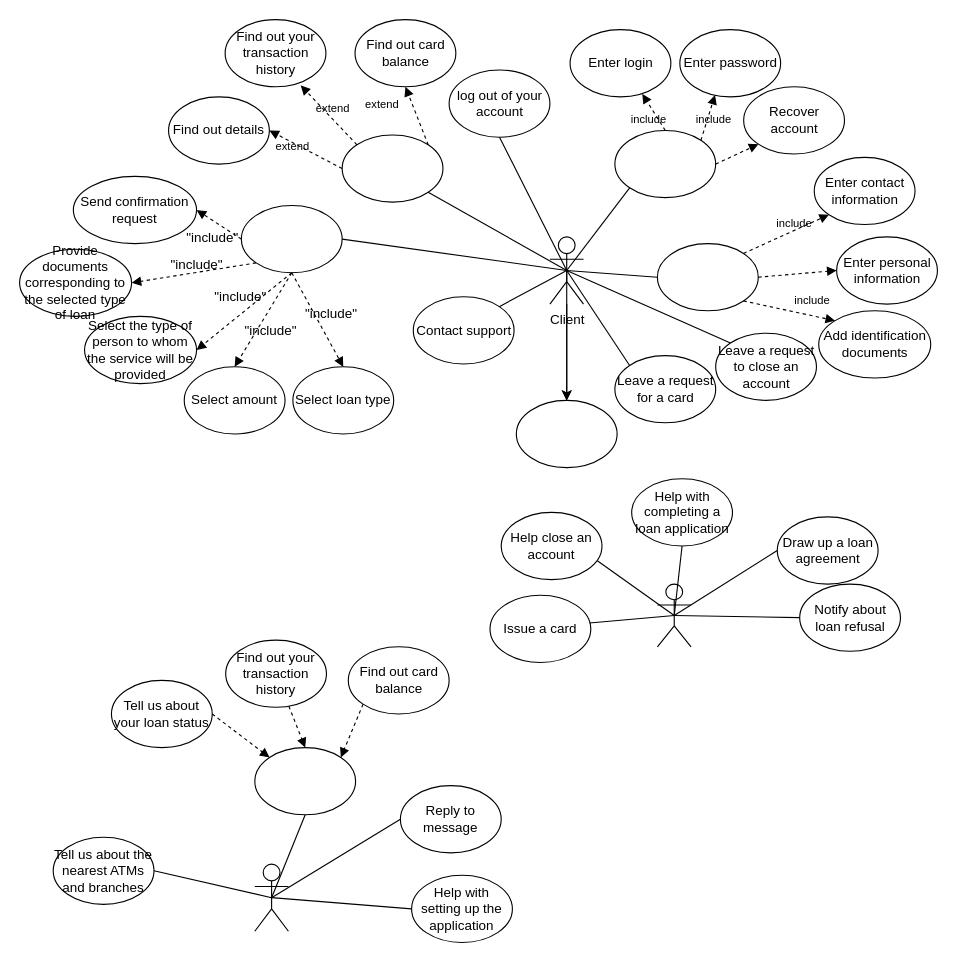
This 958x974 diagram has some shape labels left out. Here are the shapes that lost their labels. From the top down, the centre of each, then its label:
At point (392, 168): "Find out account information".
At point (665, 163): "login to account".
At point (291, 238): "Apply for a loan".
At point (707, 276): "Register in the system".
At point (566, 433): "Card reissue".
At point (673, 615): "Manager".
At point (305, 780): "Check client account status".
At point (271, 897): "Support".
